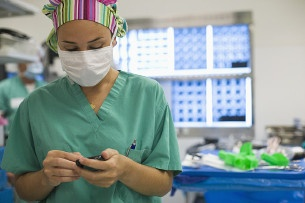Mask: (57, 31, 111, 86)
